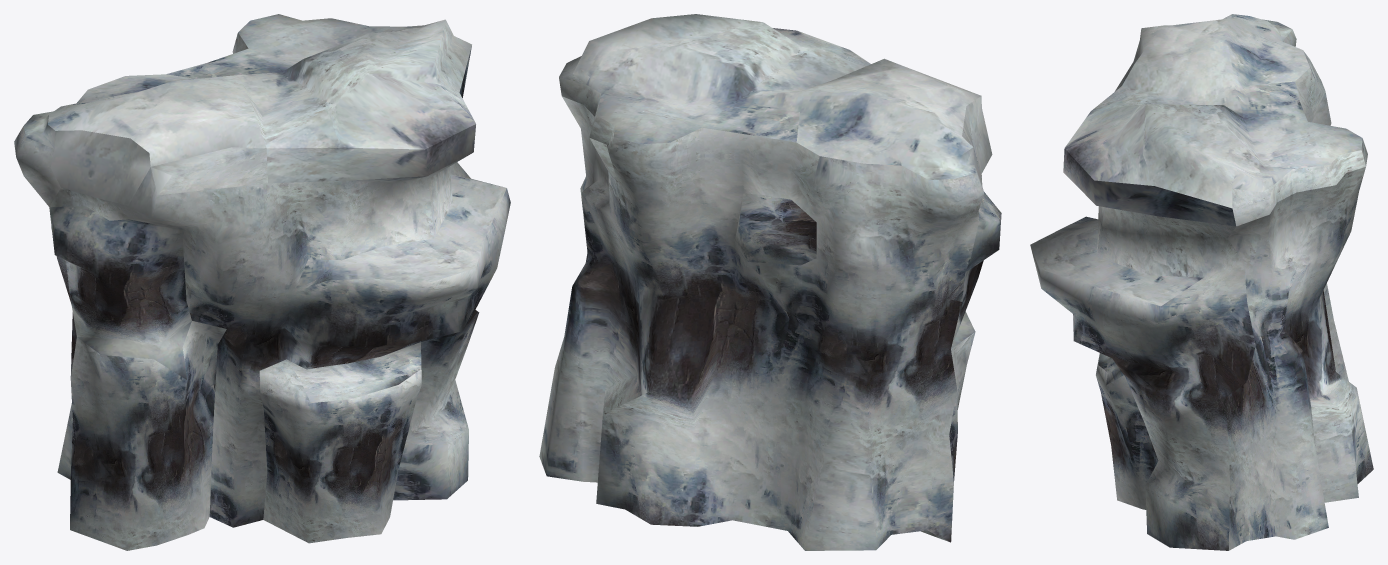
File: S_Rock_White018.FBX
The picture shows the model from 3 angles, left to right: view 1: azimuth 30°, elevation 25°; view 2: azimuth 150°, elevation 25°; view 3: azimuth 270°, elevation 25°; orthographic projection. The views are drawn at different scales.
Visible parts, largest first — view 1: snowland_rock018; view 2: snowland_rock018; view 3: snowland_rock018.
Boxes of the visible parts, bbox=[...] form: snowland_rock018: bbox=[14, 14, 510, 550]; snowland_rock018: bbox=[539, 14, 1001, 550]; snowland_rock018: bbox=[1030, 14, 1373, 550].
Bounding box in the file's own units: 969 × 734 × 944.
